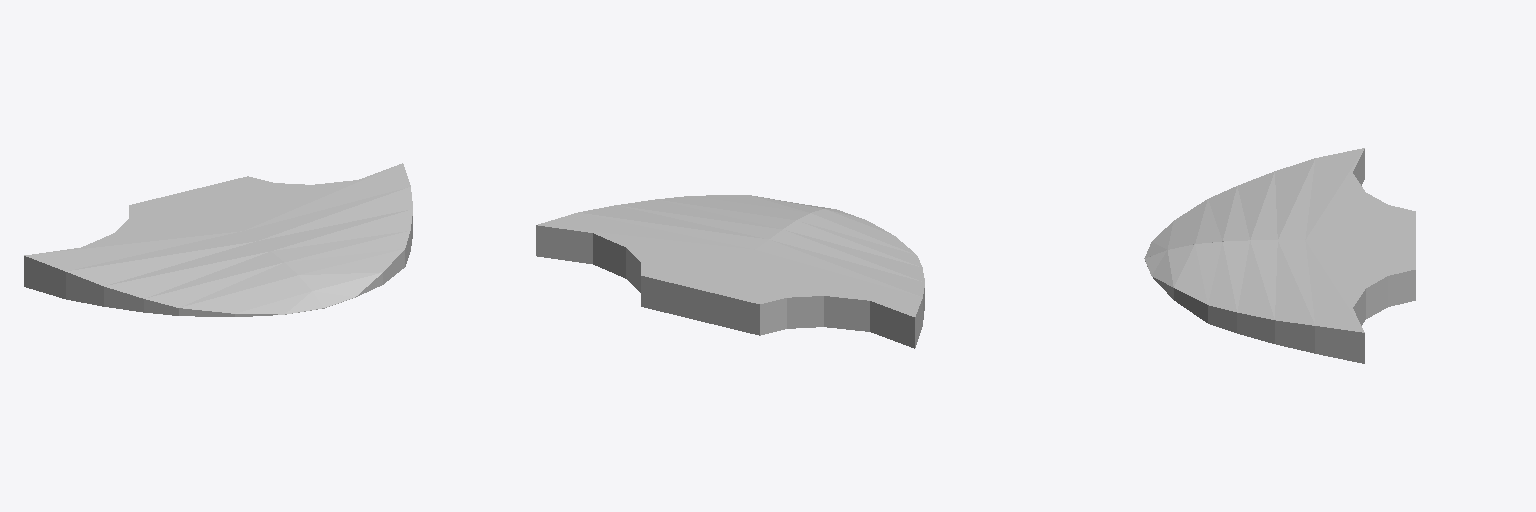
Rendered from melee_2_corrected_uvs.obj.
The picture shows the model from 3 angles: view 1: azimuth 30°, elevation 25°; view 2: azimuth 150°, elevation 25°; view 3: azimuth 270°, elevation 25°; orthographic projection.
Parts seen in each view (by area): view 1: melee_4:pCube3, melee_4:pCube4; view 2: melee_4:pCube3, melee_4:pCube4; view 3: melee_4:pCube4, melee_4:pCube3.
Boxes of the visible parts, x1,y1,x2,y2 form: melee_4:pCube3: [24, 191, 323, 316]; melee_4:pCube4: [189, 163, 412, 308]; melee_4:pCube3: [700, 209, 924, 348]; melee_4:pCube4: [536, 195, 830, 320]; melee_4:pCube4: [1145, 240, 1415, 363]; melee_4:pCube3: [1144, 148, 1415, 258].
Bounding box in the file's own units: 0.9534 × 0.075 × 0.5902.